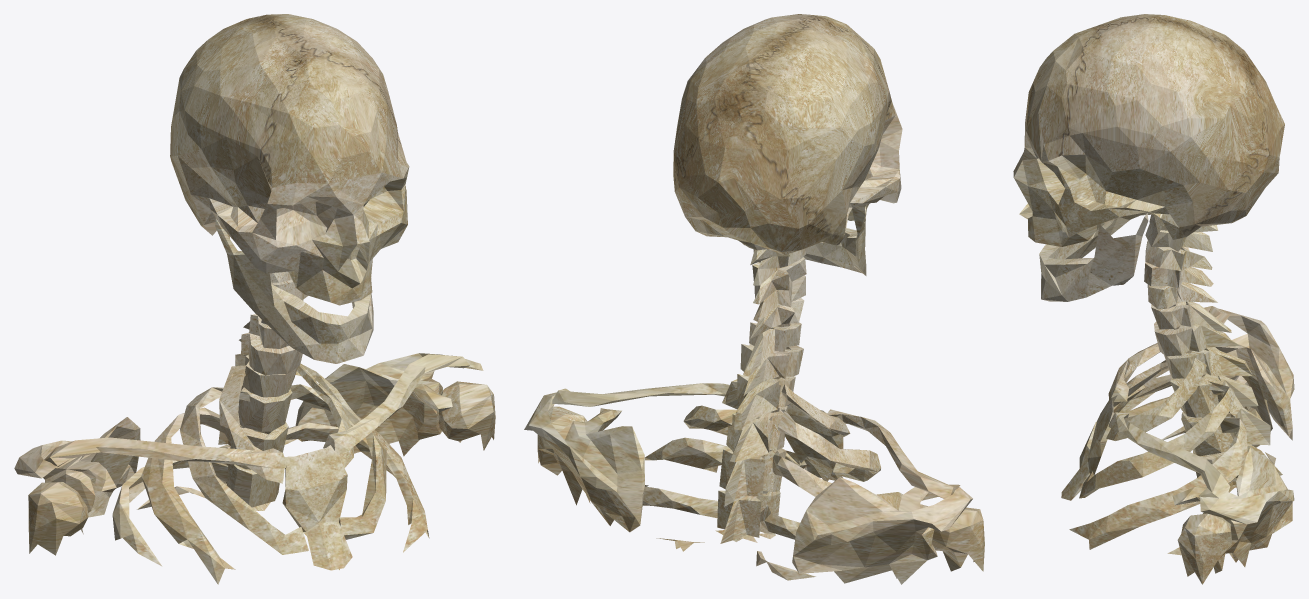
Rendered from Esqueleto.obj.
3 views of the same model, side by side, from view 1: azimuth 30°, elevation 25°; view 2: azimuth 150°, elevation 25°; view 3: azimuth 270°, elevation 25° (orthographic). The views are drawn at different scales.
Parts seen in each view (by area): view 1: Musculos_Cabeza_1:esqueleto:esqueleto; view 2: Musculos_Cabeza_1:esqueleto:esqueleto; view 3: Musculos_Cabeza_1:esqueleto:esqueleto.
Boxes of the visible parts, box(x1,y1,x2,y2) form: Musculos_Cabeza_1:esqueleto:esqueleto: box(14, 14, 495, 584); Musculos_Cabeza_1:esqueleto:esqueleto: box(524, 14, 984, 584); Musculos_Cabeza_1:esqueleto:esqueleto: box(1013, 14, 1294, 584).
Bounding box in the file's own units: 1.6 × 1.7 × 0.9037.
2 materials, 2 textured.
